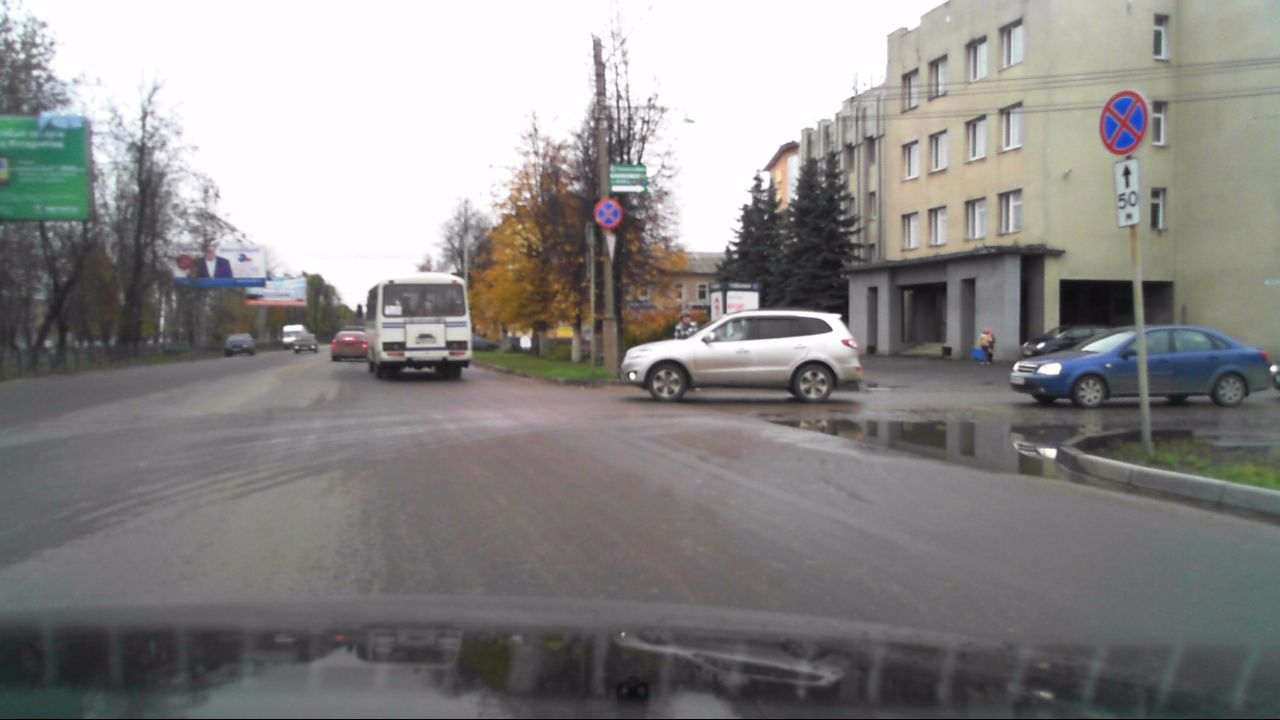No Parking: (594, 199, 622, 227)
